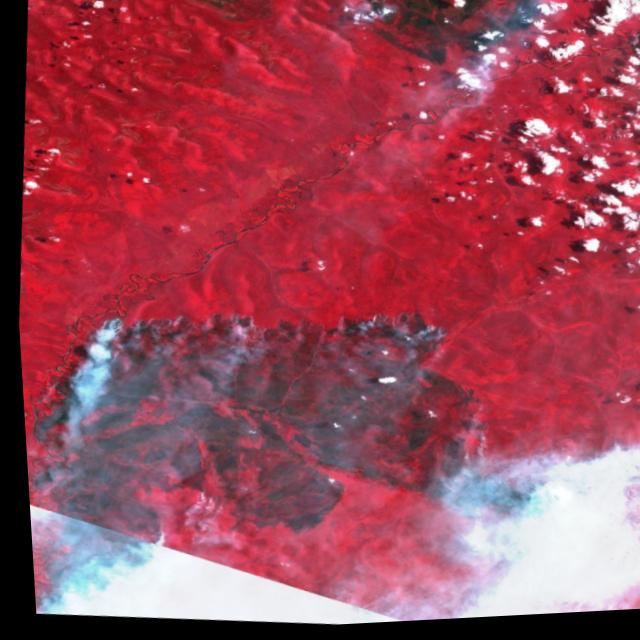fire: (55, 291, 281, 394), (313, 298, 463, 397), (126, 485, 232, 557), (442, 396, 504, 491)
